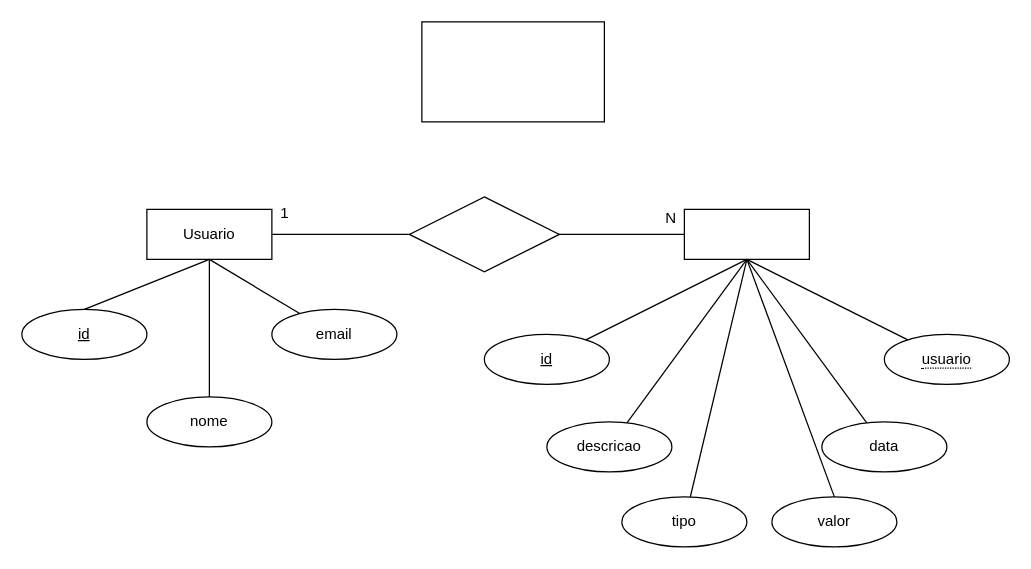
Some shapes in this 1031 by 569 pixel diagram are drawn without their labels. Each missing label, with the centre of its shape:
"FAZ" belongs at pixel 483 234.
"Lancamento" belongs at pixel 746 233.
"projeto Livro Caixa DER Conceitual" belongs at pixel 512 71.
